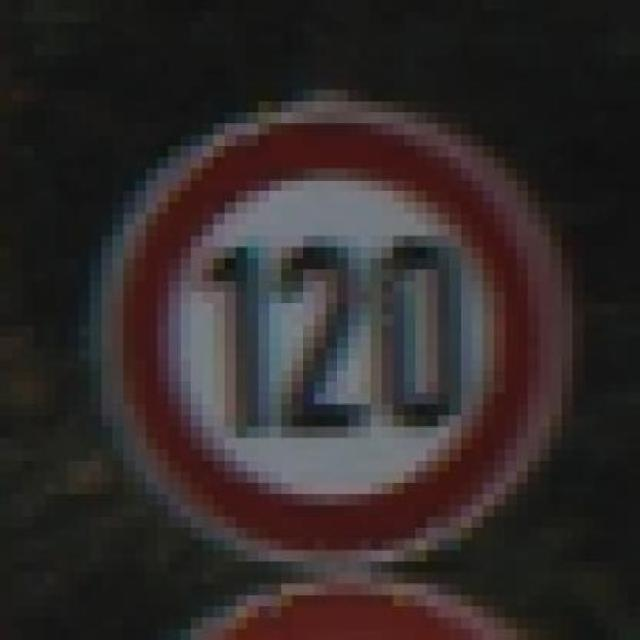forb_speed_over_120: (118, 114, 552, 566)
